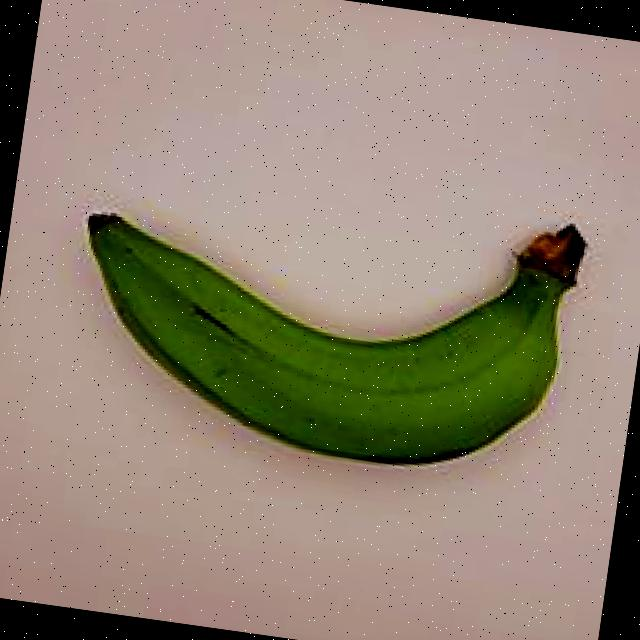Raw: (34, 132, 625, 519)
